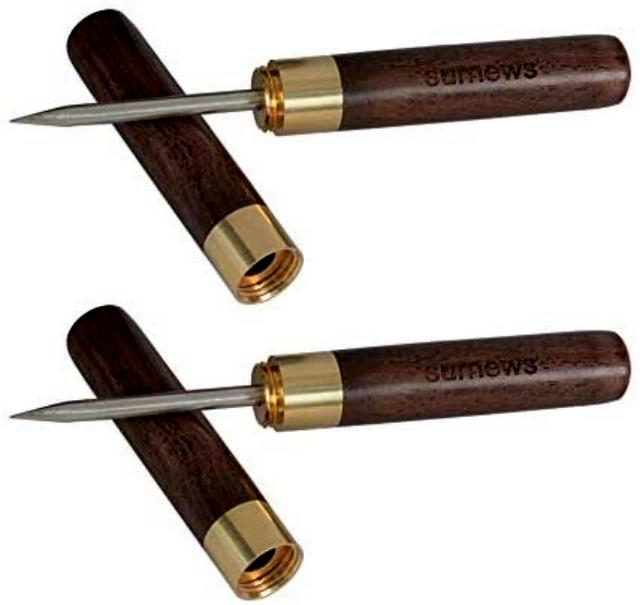ice pick: (66, 303, 306, 603), (66, 8, 302, 308), (8, 32, 632, 138), (9, 330, 632, 434)
